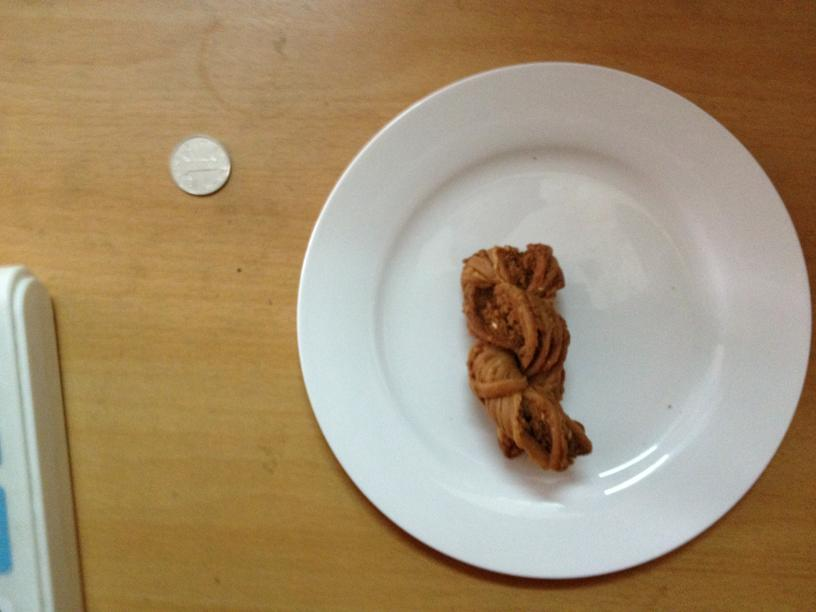coin: (170, 135, 232, 195)
fired_dough_twist: (459, 239, 592, 472)
